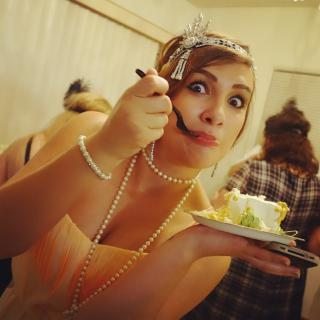Ice cream: (210, 189, 291, 239)
